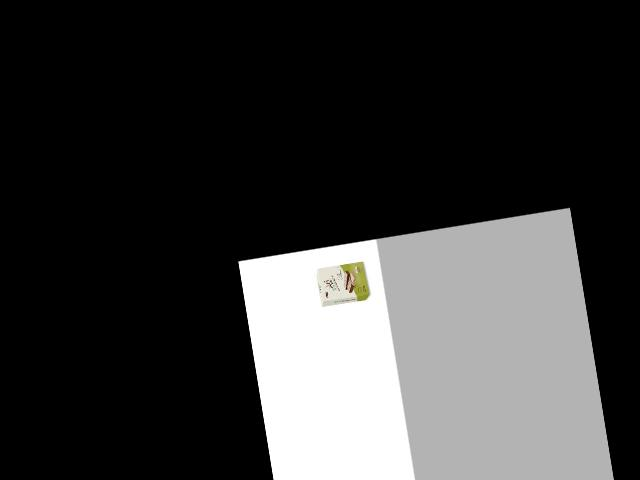chocolate: (314, 260, 372, 310)
